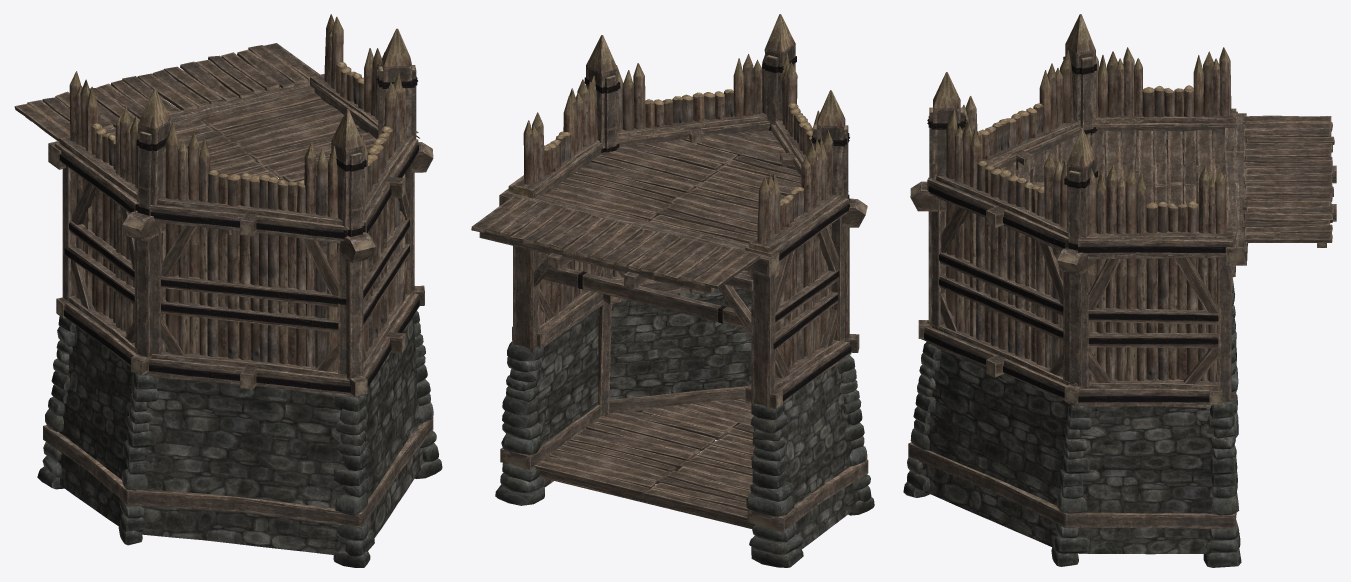
Rendered from jav_struc_def_truestone_bastion-transformed.glb.
3 views of the same model, side by side, from view 1: azimuth 30°, elevation 25°; view 2: azimuth 150°, elevation 25°; view 3: azimuth 270°, elevation 25° (orthographic). The views are drawn at different scales.
Parts seen in each view (by area): view 1: default; view 2: default; view 3: default.
Part boxes in pixels (x1=…): default: x1=14, y1=14, x2=442, y2=567; default: x1=471, y1=14, x2=874, y2=567; default: x1=903, y1=14, x2=1336, y2=567.
Size of the model in its own units: 10.1 by 13.63 by 12.55.
Materials: 3 (3 with a texture image).
